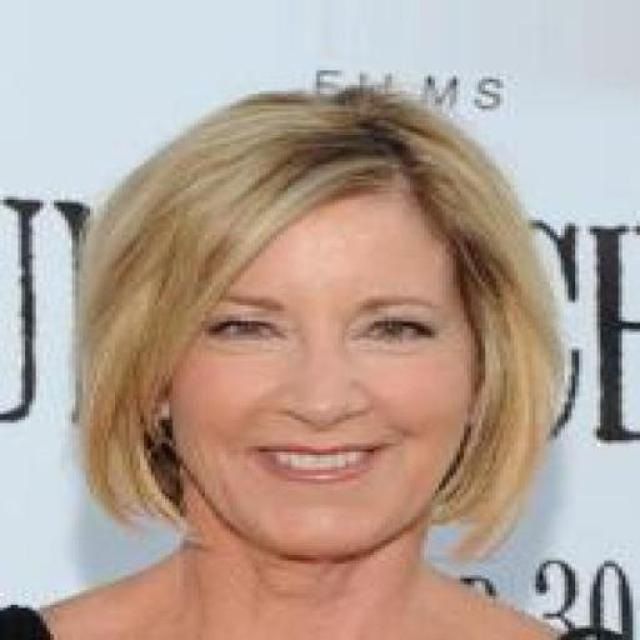bareface: (124, 146, 512, 554)
